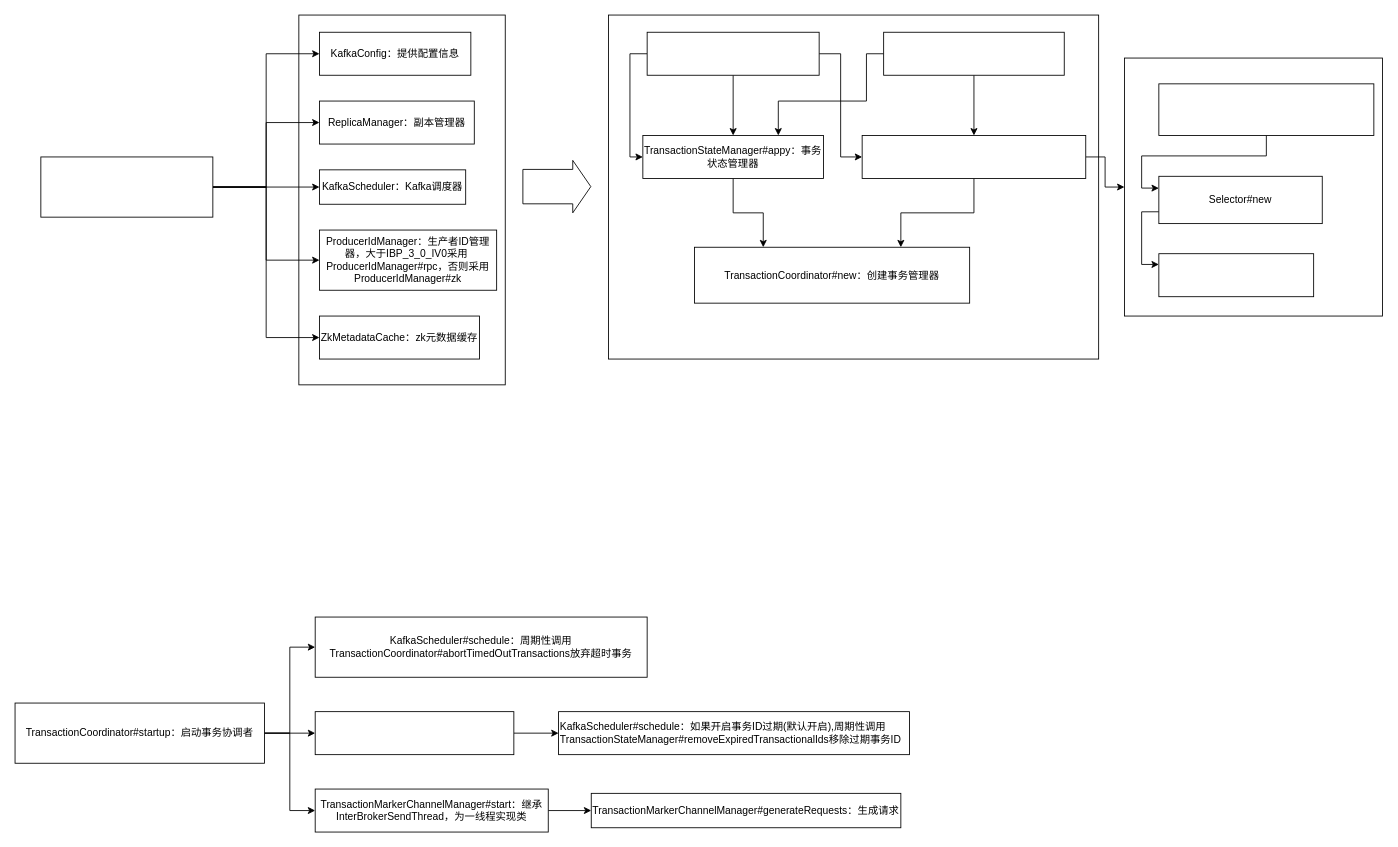
Image size: 1398x847. Some labels were removed from this diagram. Each missing label, with the box of its shape:
ChannelBuilders#clientChannelBuilder: (1158, 83, 1374, 135)
LogContext：日志上下文: (883, 31, 1064, 75)
NetworkClient#new: (1158, 253, 1314, 297)
TransactionConfig：事务配置: (646, 31, 819, 75)
TransactionCoordinator#apply创建事务协调器: (40, 156, 213, 217)
TransactionMarkerChannelManager#apply：事务标记通道管理器: (861, 135, 1086, 178)
TransactionStateManager#startup: (314, 711, 514, 755)
